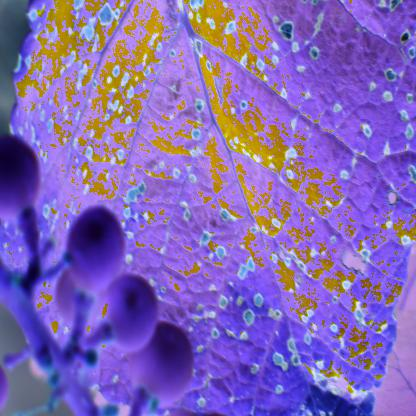grape leaf black rot: (20, 4, 398, 416)
